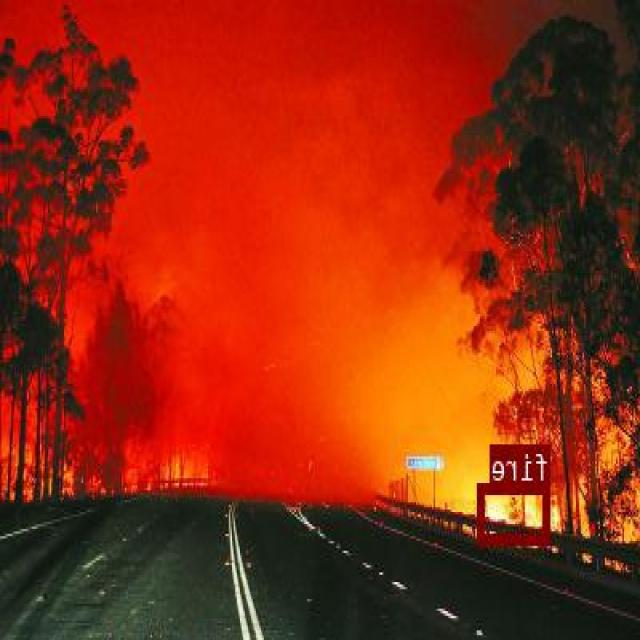fire: (479, 482, 551, 543)
